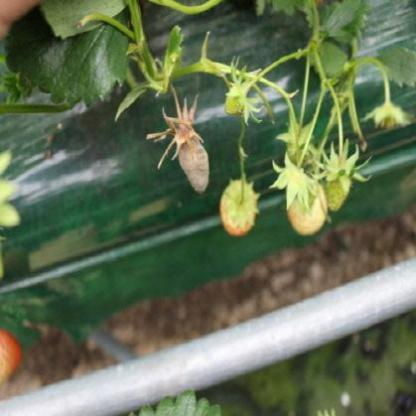Strawberry_Gray_Mold: (148, 96, 210, 195)
